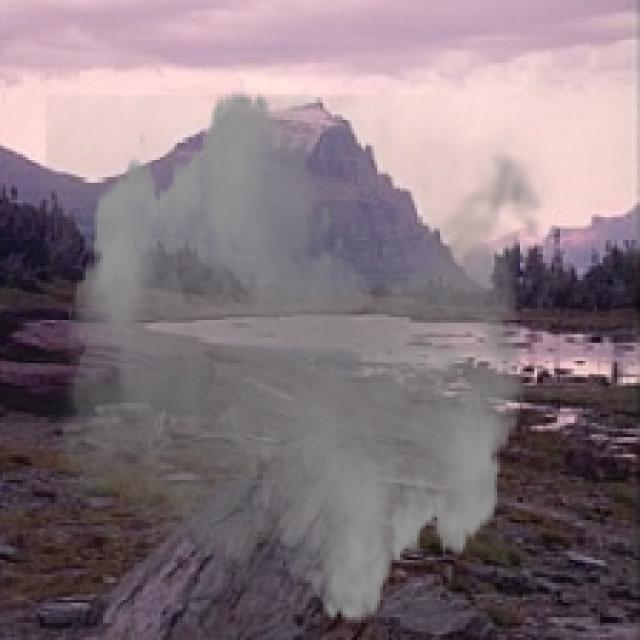Smoke: (46, 74, 563, 637)
